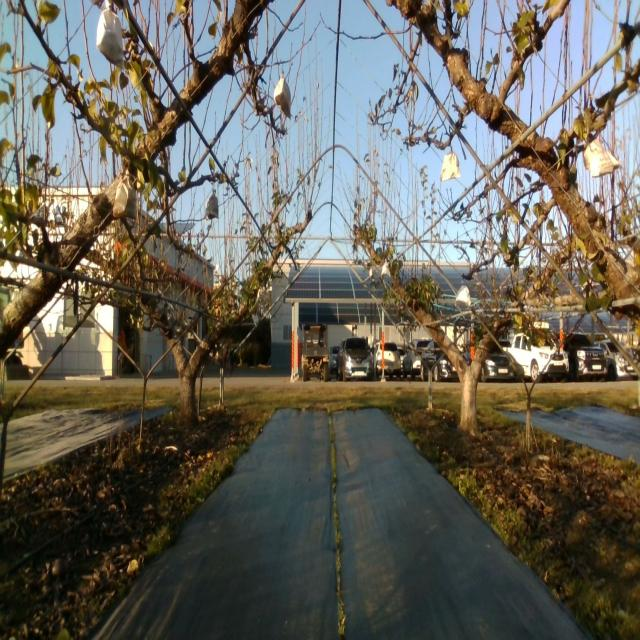pearbags: (94, 4, 124, 71), (582, 141, 620, 178), (112, 168, 138, 220), (273, 73, 290, 120), (440, 147, 461, 180), (204, 188, 218, 221), (455, 281, 471, 308)
